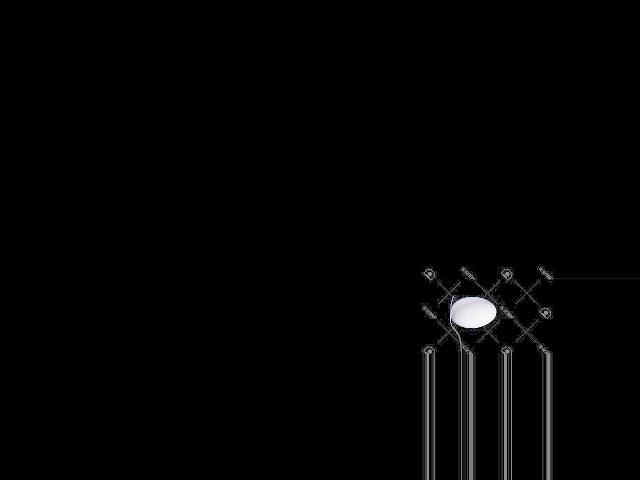egg: (450, 297, 495, 328)
